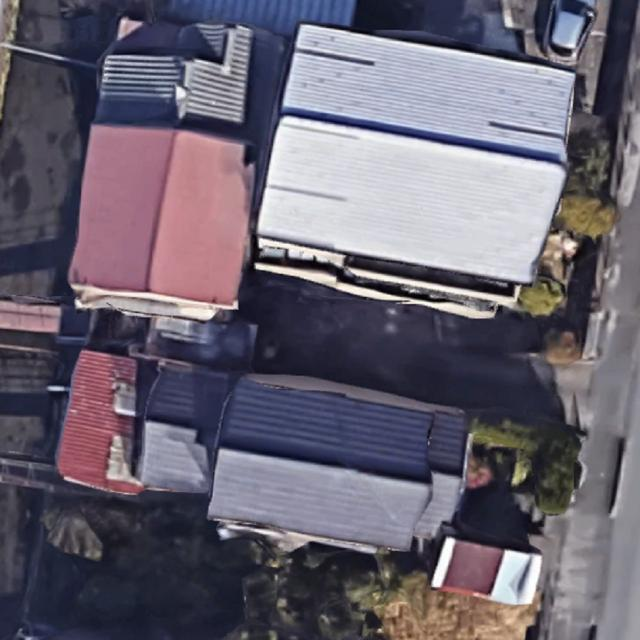Batiment: (257, 24, 574, 316), (209, 374, 470, 550), (69, 124, 253, 304), (94, 22, 286, 179), (137, 360, 239, 492), (58, 350, 144, 494)
